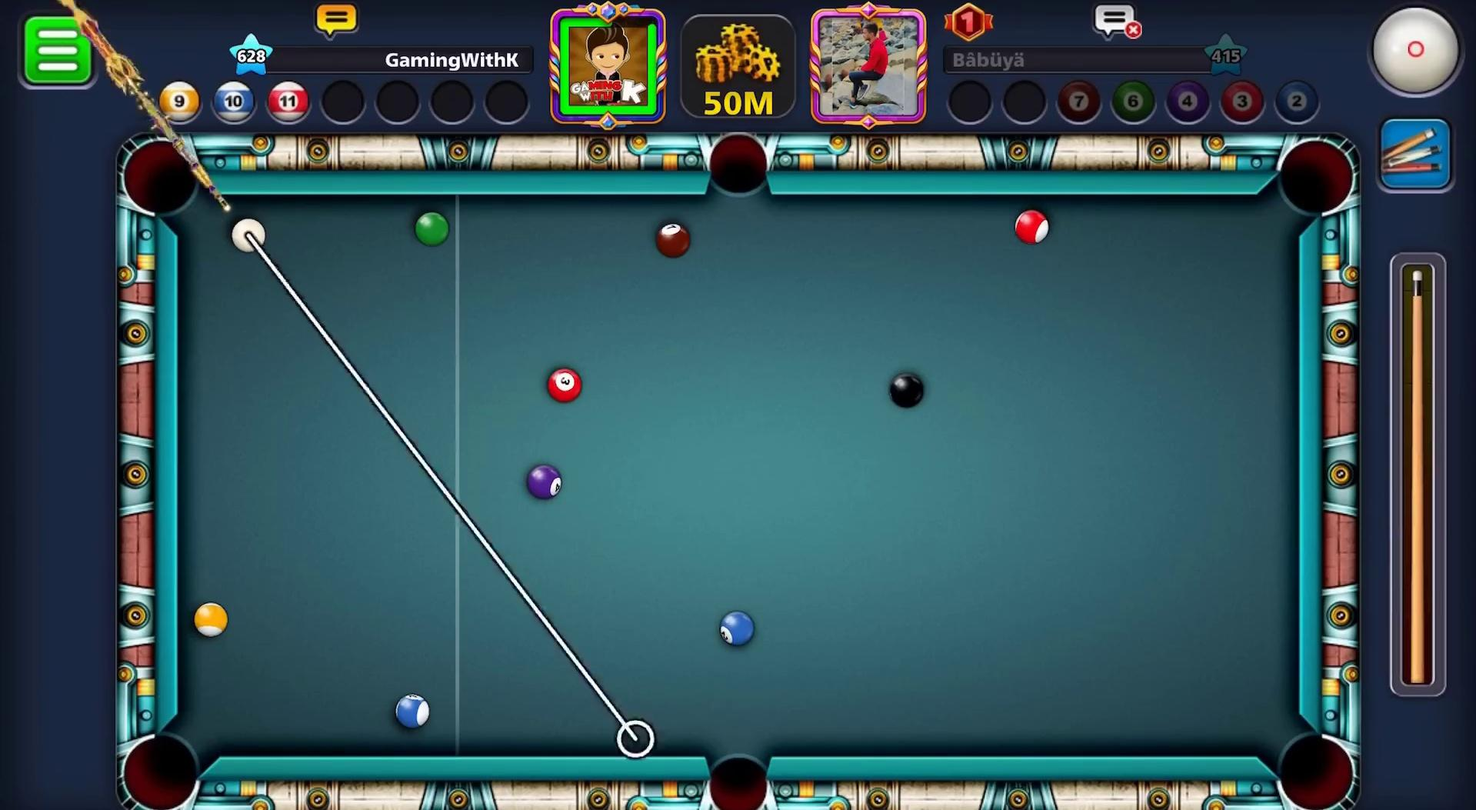Ball: (515, 456, 574, 507), (538, 360, 588, 410), (646, 218, 695, 261), (714, 608, 758, 655), (883, 368, 929, 412), (1009, 205, 1053, 249), (389, 692, 434, 735), (190, 600, 230, 641), (408, 210, 450, 249)
Force: (1387, 252, 1454, 700)
Guideline: (238, 227, 646, 745)
Hole: (104, 119, 235, 235), (1253, 706, 1370, 809), (1264, 126, 1364, 231), (103, 719, 219, 809), (699, 120, 785, 216), (690, 735, 785, 809)
Play_Area: (185, 195, 1294, 755)
Spin: (1361, 0, 1475, 109)
White: (225, 213, 271, 256)
